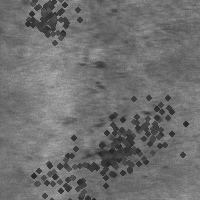rolled-in_scale: (71, 44, 136, 184), (104, 80, 196, 172), (19, 132, 113, 200), (78, 120, 144, 186), (88, 107, 152, 171), (15, 0, 77, 48)
